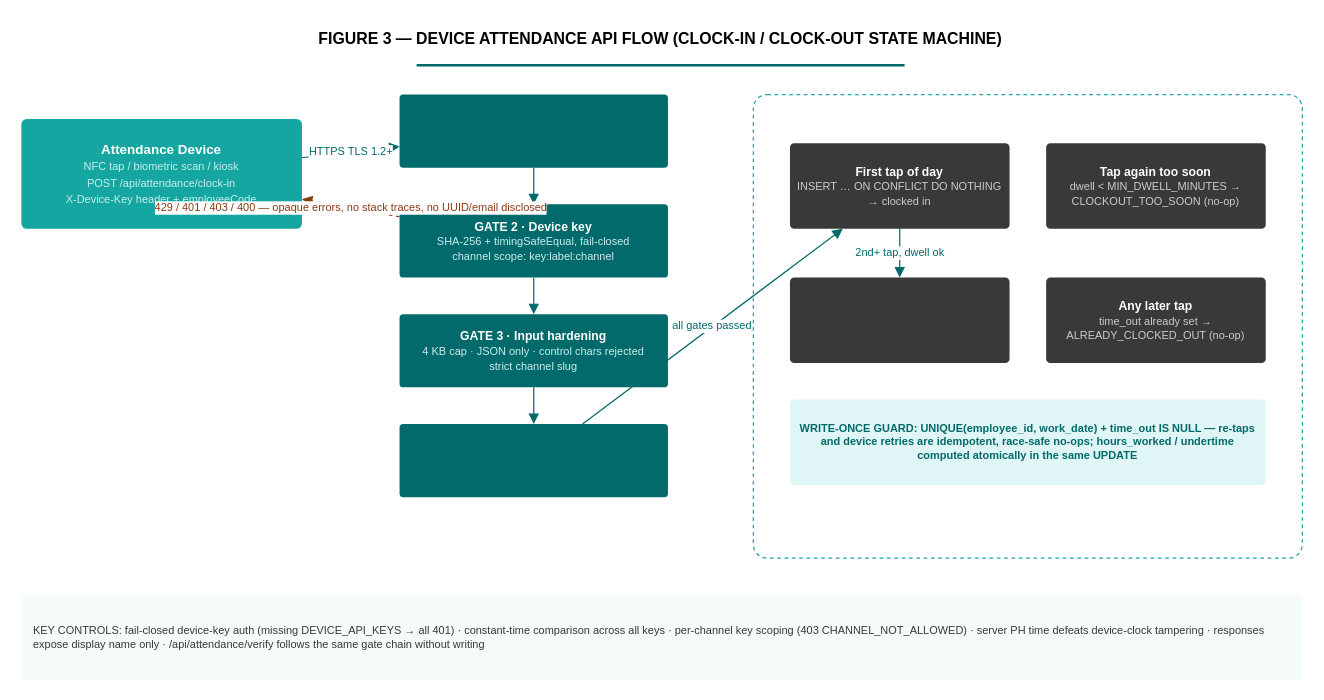
Some shapes in this 1324 by 700 pixel diagram are drawn without their labels. Each missing label, with the box of its shape:
Clock-out tap UPDATE … SET time_out WHERE time_out IS NULL: (789, 277, 1009, 362)
GATE 1 · Rate limit 30 req / 10 s per client IP (sliding window): (399, 94, 667, 167)
GATE 4 · Geofence office_networks CIDR check · same rules as web: (399, 423, 667, 497)
SERVER-TIME STATE MACHINE (PH TIME, ANTI-TAMPER): (752, 93, 1302, 558)
